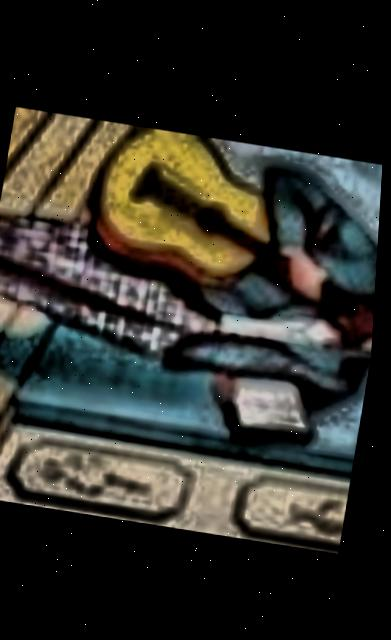El Musico: (0, 104, 386, 550)
